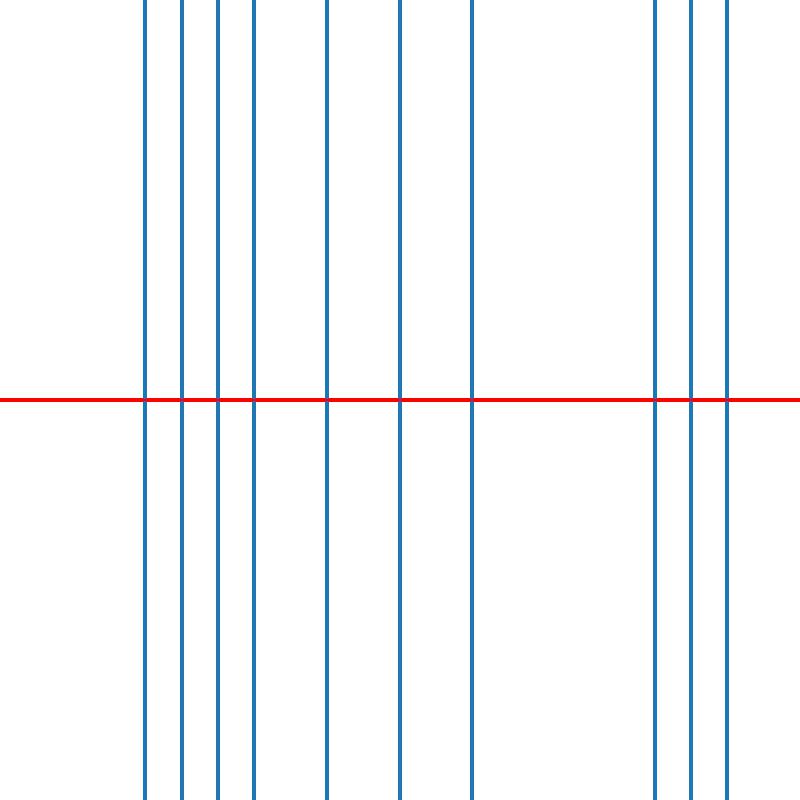root: (650, 396, 658, 404), (141, 396, 149, 404), (250, 396, 258, 404), (723, 396, 730, 404), (214, 396, 221, 404), (396, 396, 403, 404), (687, 396, 694, 404), (178, 396, 185, 404), (469, 396, 476, 404), (323, 396, 330, 404)
